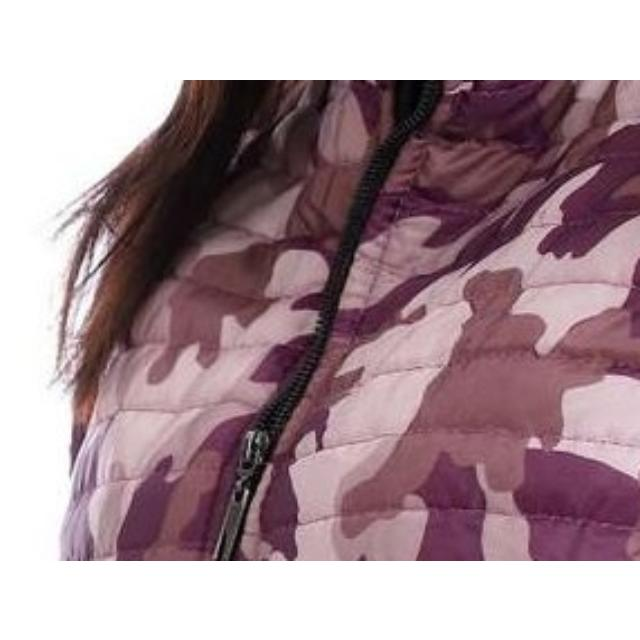polyester: (108, 80, 640, 560)
